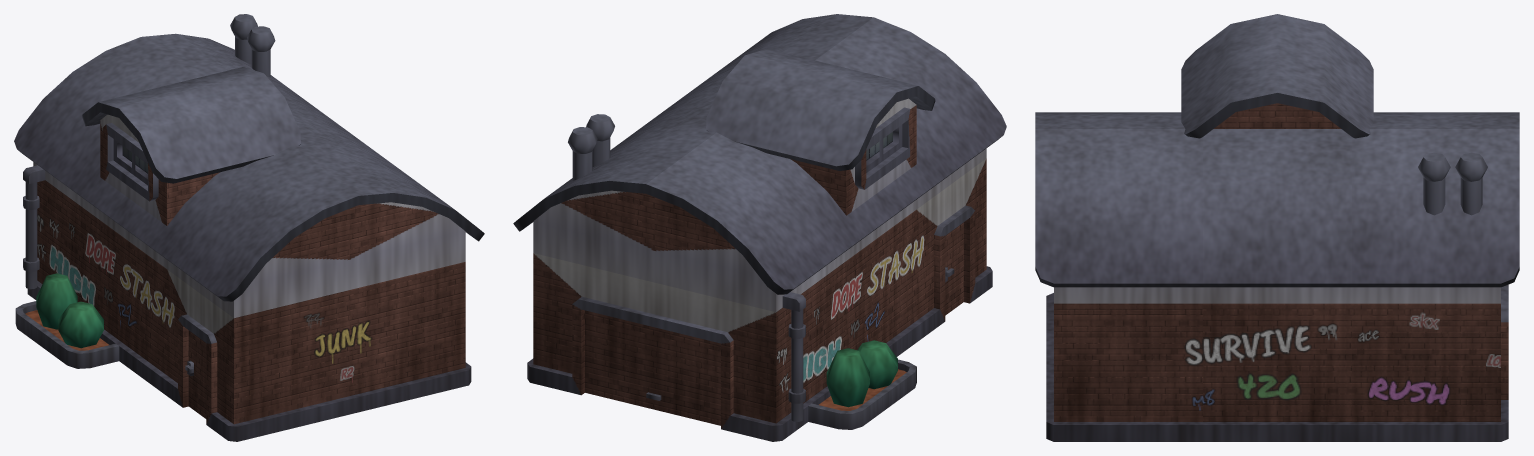
File: building-j-brown-scuffed.glb
3 renders of one model, left to right at view 1: azimuth 30°, elevation 25°; view 2: azimuth 150°, elevation 25°; view 3: azimuth 270°, elevation 25°, orthographic. The views are drawn at different scales.
Visible parts, largest first — view 1: building-j; view 2: building-j; view 3: building-j.
Boxes of the visible parts, x1=… form: building-j: x1=14, y1=14, x2=484, y2=441; building-j: x1=513, y1=14, x2=1006, y2=441; building-j: x1=1035, y1=14, x2=1519, y2=441.
Bounding box in the file's own units: 1.03 × 0.8611 × 1.3.
1 material, 1 textured.
